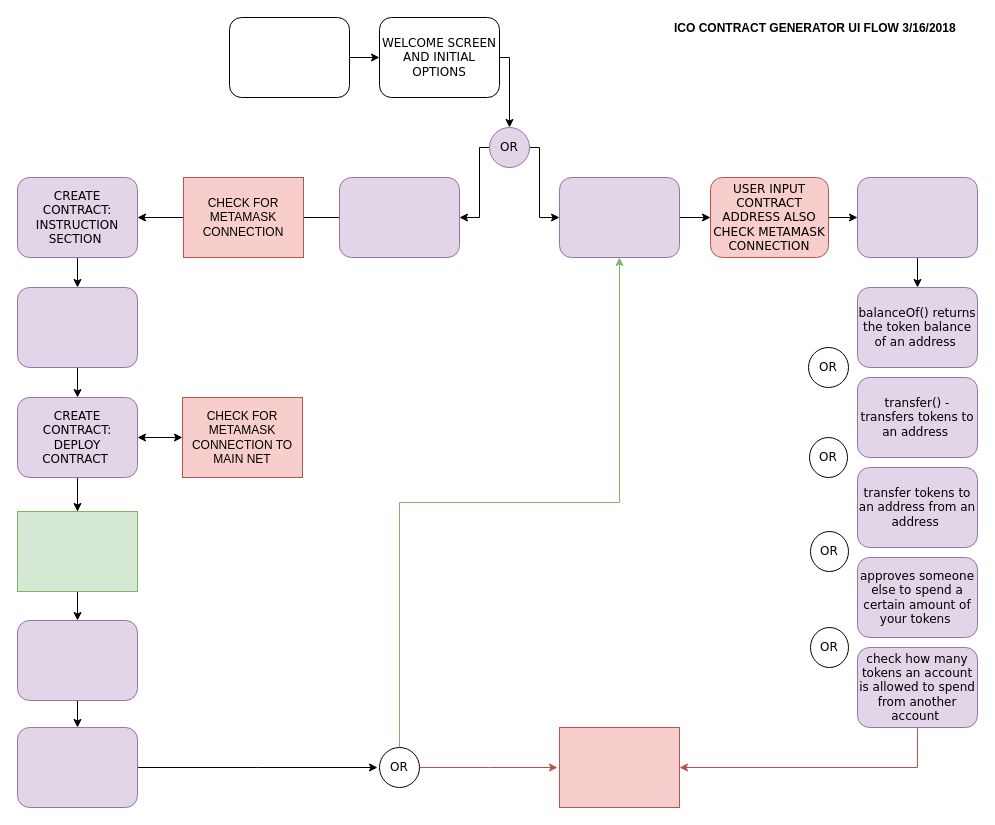
Some shapes in this 995 by 825 pixel diagram are drawn without their labels. The box of each missing label's shape, as (x1, y1, x2, y2) in pixels:
CONTRACT DEPLOYED TO ETHEREUM BLOCHCHAIN: (16, 510, 138, 592)
CREATE CONTRACT: CONTRACT Q&A: (16, 286, 138, 368)
CREATE CONTRACT: SUCCESS WINDOW: (16, 620, 138, 700)
EXIT SYSTEM: (558, 726, 680, 808)
INTERACT WITH EXISTING CONTRACT: (558, 176, 680, 258)
PRESENT OPTIONS FOR EXIT OR INTERACTION WITH CONTRACT: (16, 726, 138, 808)
PRESENT OPTIONS FOR INTERACTION: (856, 176, 978, 258)
SMART CONTRACT USER: (228, 16, 350, 98)
START SMART CONTRACT PROCESS: (338, 176, 460, 258)
